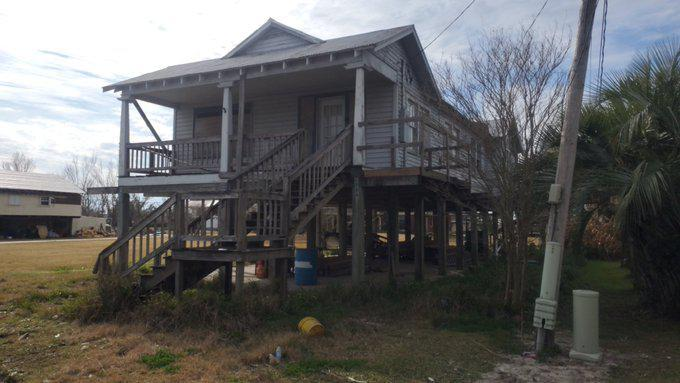minor: (110, 14, 516, 310)
